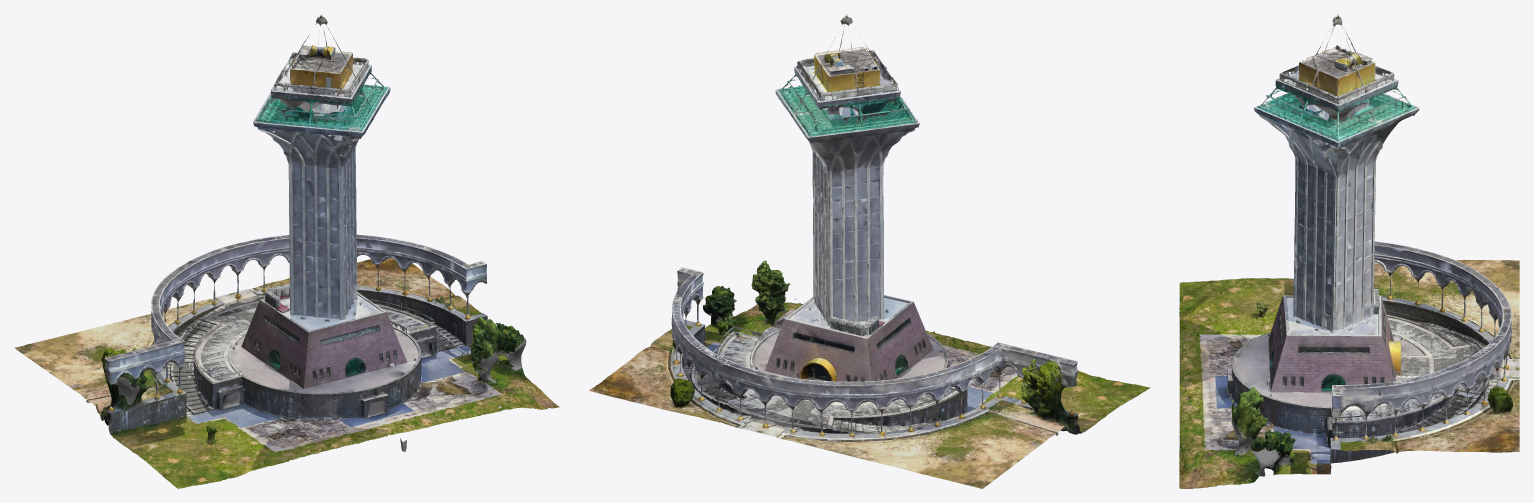
Rendered from bic-balikpapan.glb.
3 renders of one model, left to right at view 1: azimuth 30°, elevation 25°; view 2: azimuth 150°, elevation 25°; view 3: azimuth 270°, elevation 25°, orthographic. The views are drawn at different scales.
Visible parts, largest first — view 1: Object_2, Object_4, Object_3; view 2: Object_4, Object_2, Object_3; view 3: Object_2, Object_4, Object_3.
Boxes of the visible parts, x1=… form: Object_2: x1=15, y1=52, x2=509, y2=488; Object_4: x1=86, y1=14, x2=560, y2=478; Object_3: x1=72, y1=31, x2=520, y2=464; Object_4: x1=589, y1=14, x2=1105, y2=441; Object_2: x1=599, y1=47, x2=1150, y2=488; Object_3: x1=615, y1=24, x2=1079, y2=465; Object_2: x1=1179, y1=56, x2=1519, y2=474; Object_4: x1=1179, y1=14, x2=1519, y2=488; Object_3: x1=1179, y1=26, x2=1519, y2=473.
Bounding box in the file's own units: 29.9 × 31.52 × 22.18.
3 materials, 3 textured.
